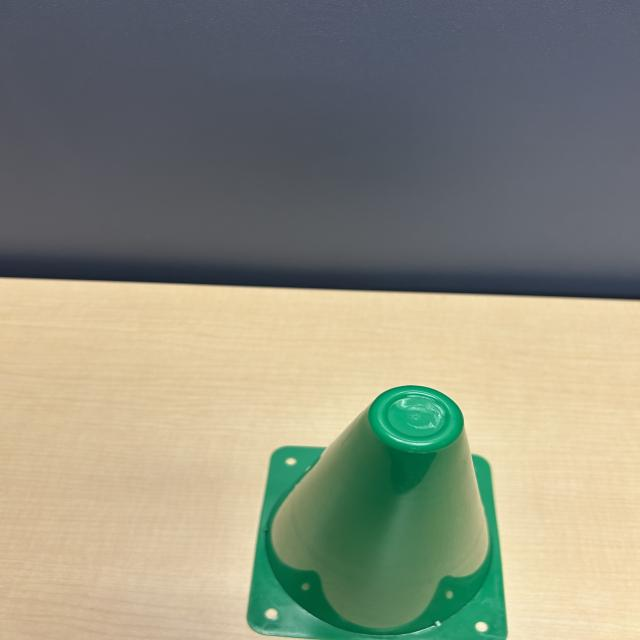green cone: (233, 382, 521, 639)
